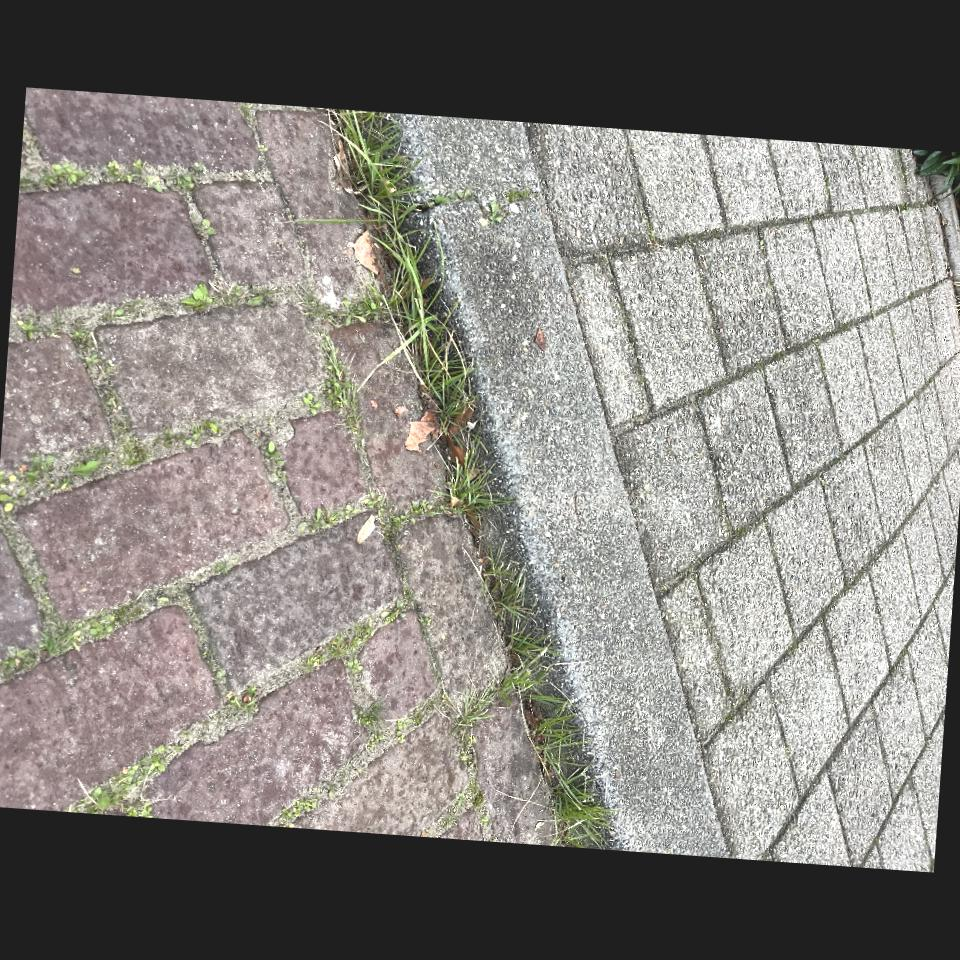weed: (221, 468, 957, 750), (446, 727, 547, 785), (801, 638, 859, 704), (857, 915, 930, 960), (605, 705, 640, 773), (273, 904, 301, 947), (395, 874, 421, 907), (911, 771, 932, 806), (674, 855, 688, 888), (276, 881, 290, 911), (769, 725, 784, 746), (933, 794, 939, 800)
